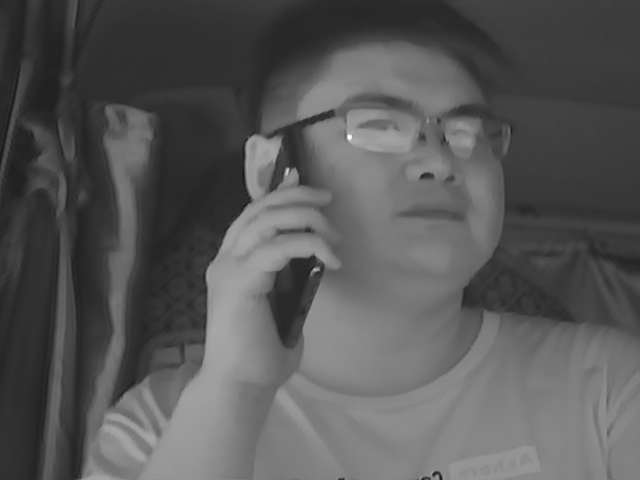hand: (194, 183, 326, 378)
